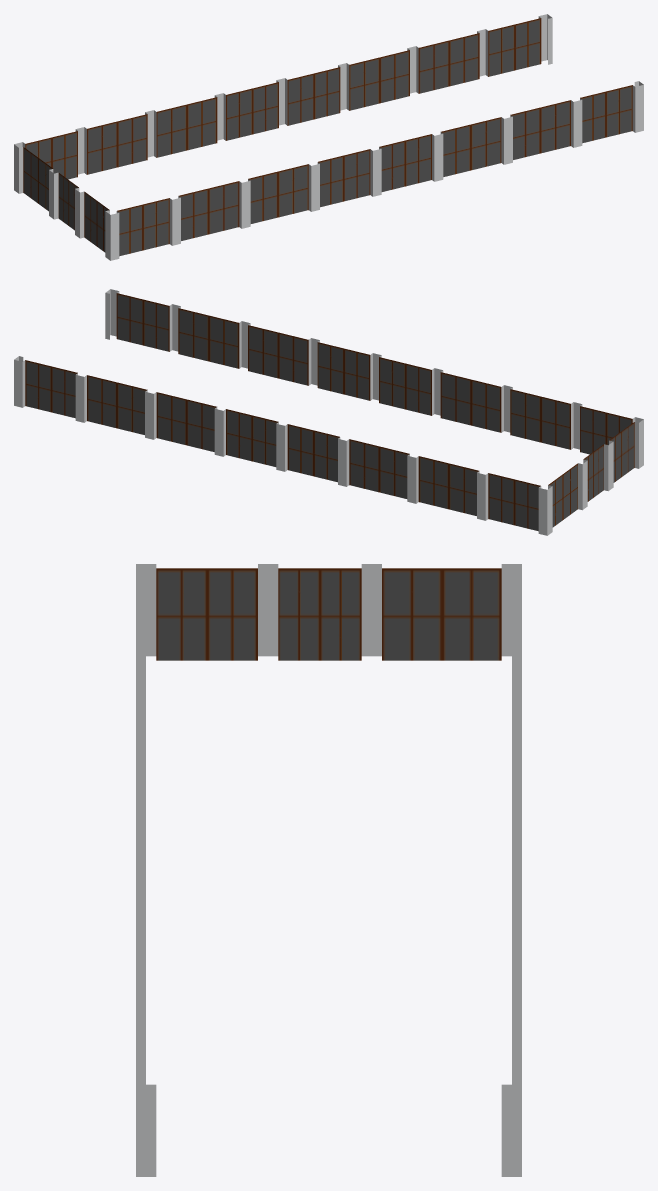
Rendered from BuildingSmall5_2.fbx.
3 views of the same model, one above another, from view 1: azimuth 30°, elevation 25°; view 2: azimuth 150°, elevation 25°; view 3: azimuth 270°, elevation 25° (orthographic). The views are drawn at different scales.
Visible parts, largest first — view 1: BuildingSmall5_2; view 2: BuildingSmall5_2; view 3: BuildingSmall5_2.
Part boxes in pixels (box(x1,y1,x2,y2)): BuildingSmall5_2: box(14, 14, 643, 260); BuildingSmall5_2: box(14, 289, 643, 535); BuildingSmall5_2: box(136, 564, 521, 1176).
Bounding box in the file's own units: 6060 × 500 × 1900.
